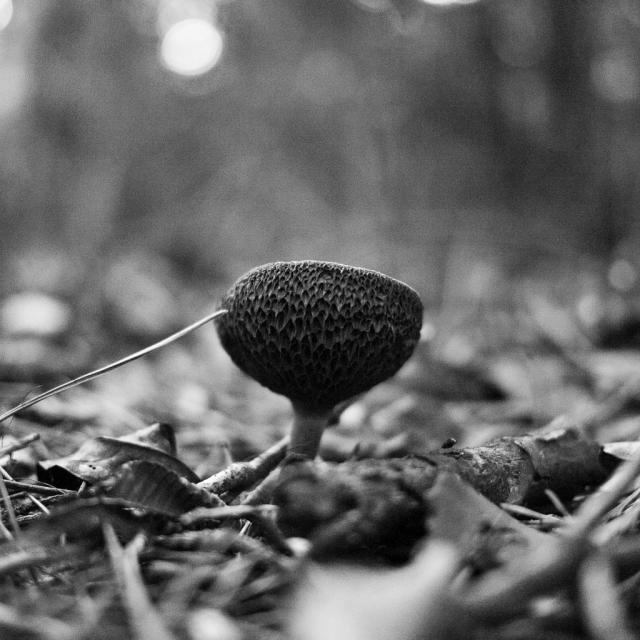Mushroom: (214, 257, 422, 467)
